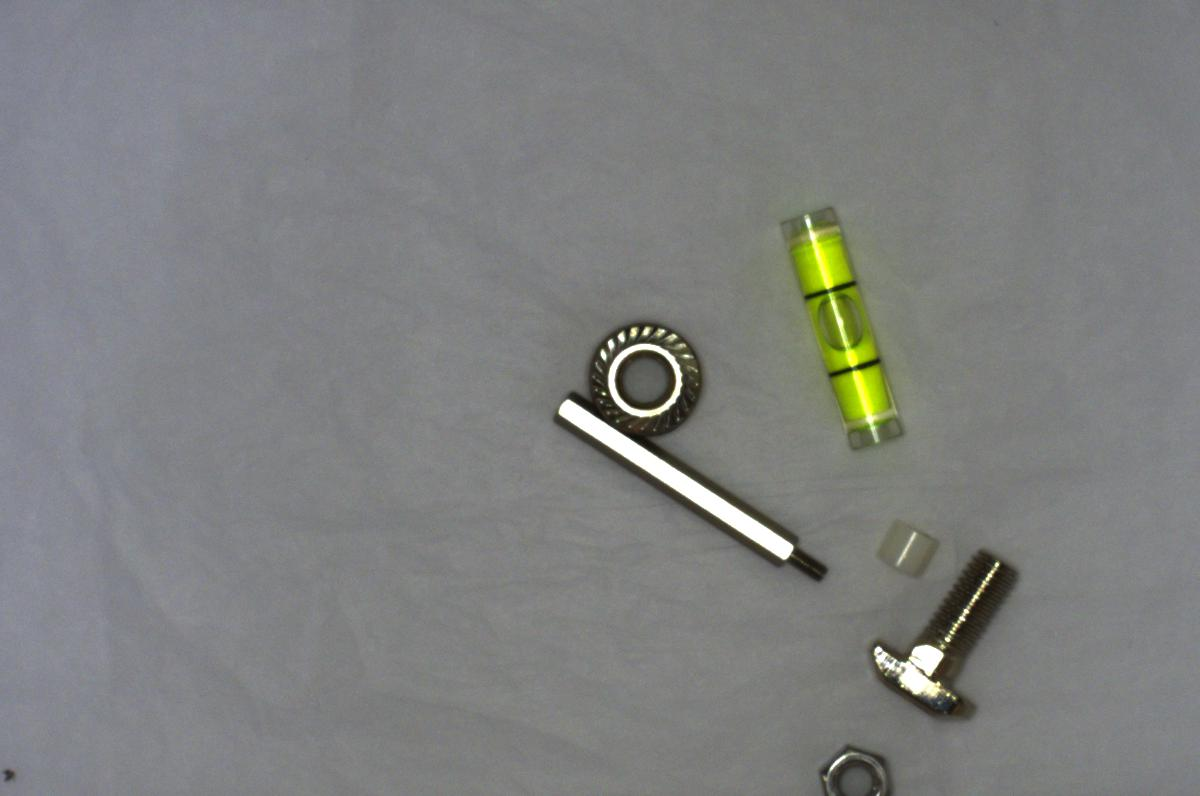Flange nut: (582, 310, 703, 444)
Hexagon nut: (805, 727, 901, 795)
Hexagonal steel column: (543, 395, 835, 586)
Horizontal bubble: (778, 203, 908, 458)
Plastic cushion pillar: (875, 513, 943, 585)
T-shaped screw: (867, 539, 1021, 718)
